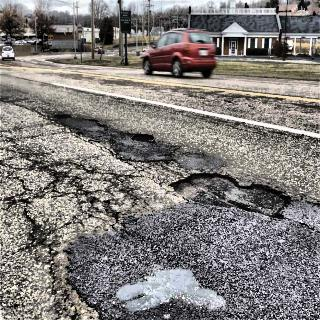alligator-crack: (4, 148, 168, 276), (66, 125, 105, 146)
crack: (1, 96, 48, 118)
pothole: (171, 170, 293, 222), (131, 131, 155, 144), (52, 113, 72, 121)
